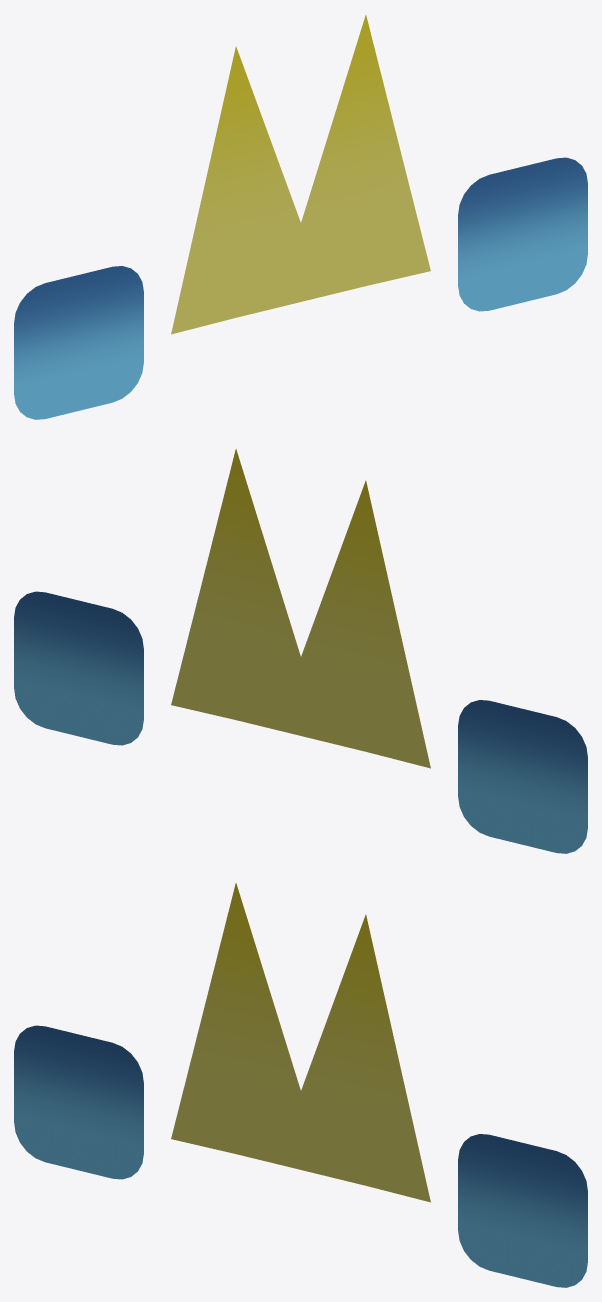
Rendered from playerhead1.obj.
3 renders of one model, top to bottom at view 1: azimuth 30°, elevation 25°; view 2: azimuth 150°, elevation 25°; view 3: azimuth 330°, elevation 25°, orthographic.
Visible parts, largest first — view 1: 平面.001_平面.007; view 2: 平面.001_平面.007; view 3: 平面.001_平面.007.
Boxes of the visible parts, x1,y1,x2,y2 form: 平面.001_平面.007: [14, 15, 587, 419]; 平面.001_平面.007: [14, 449, 587, 853]; 平面.001_平面.007: [14, 883, 587, 1287].
Bounding box in the file's own units: 4.42 × 2.4 × 0.
1 material, 1 textured.
